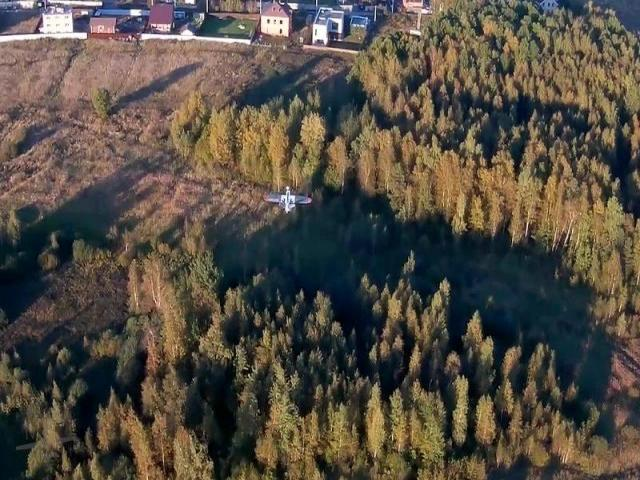hedef: (264, 179, 314, 218)
